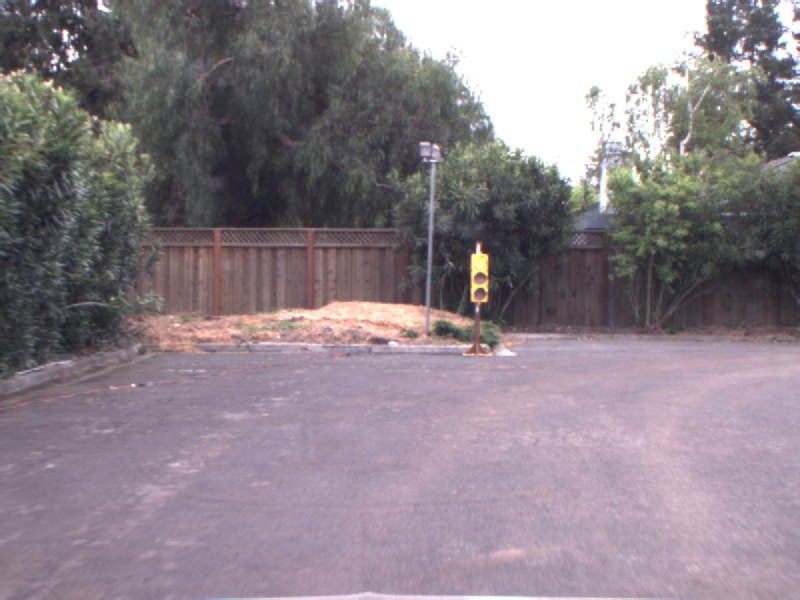red: (469, 245, 491, 306)
